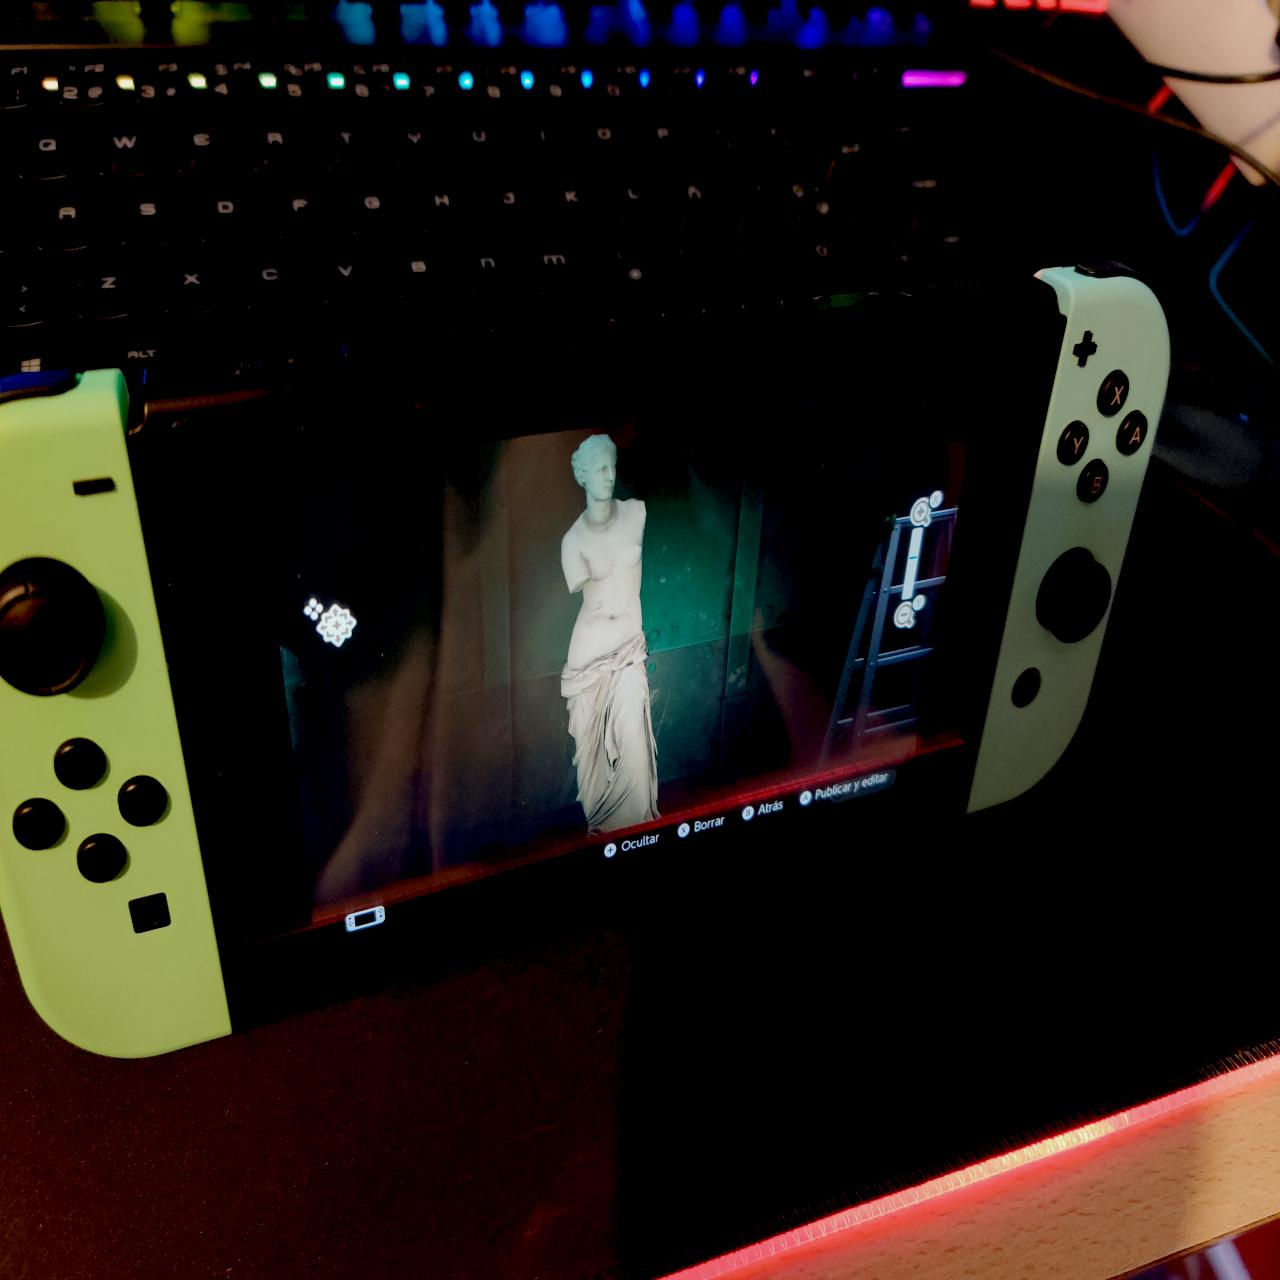MiloFake: (556, 433, 663, 833)
